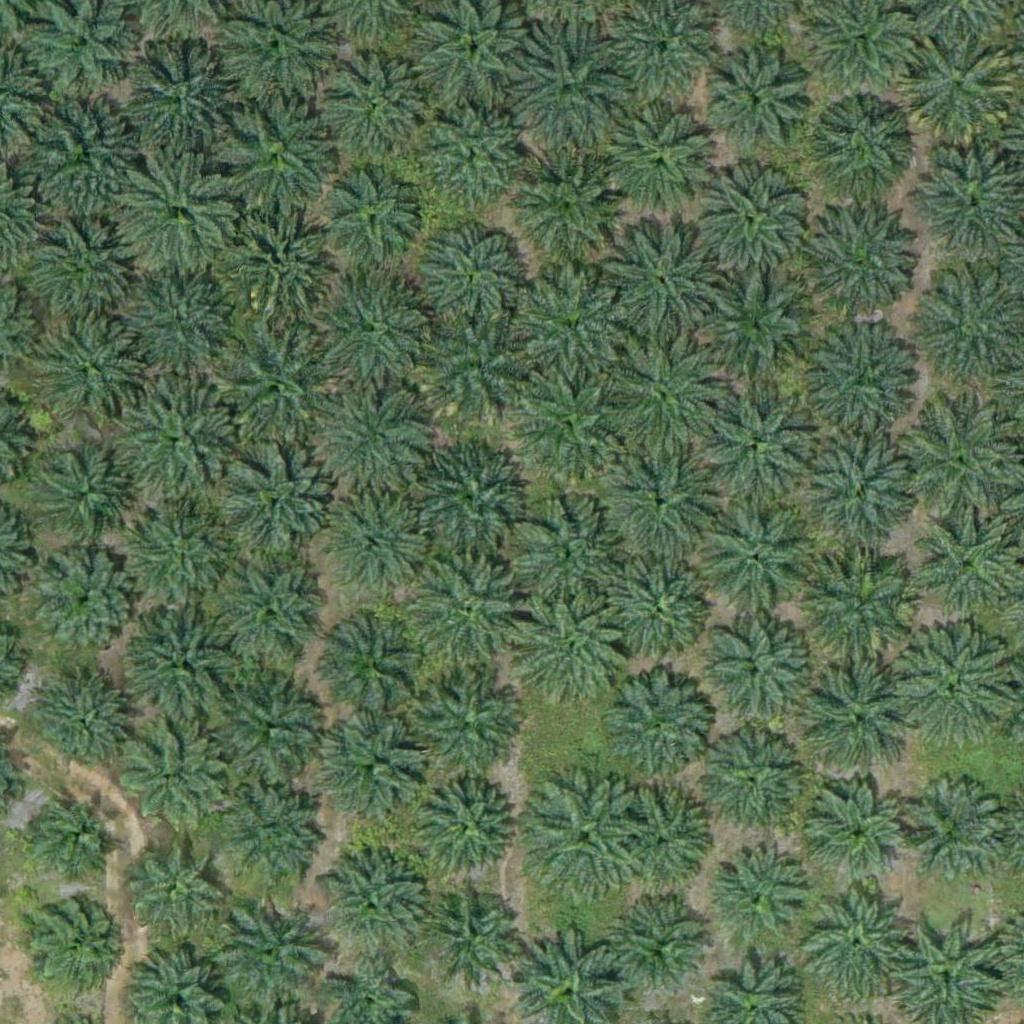Kelapa_Sawit: (502, 32, 627, 158), (120, 48, 245, 174), (117, 601, 242, 727), (114, 494, 239, 620), (114, 372, 239, 498), (116, 152, 241, 278), (224, 193, 349, 319), (214, 316, 339, 442), (215, 445, 340, 571), (208, 665, 333, 791), (310, 383, 435, 509), (311, 273, 436, 399), (408, 436, 533, 562), (404, 547, 529, 673), (512, 592, 637, 718), (505, 494, 630, 620), (597, 331, 722, 457), (599, 435, 724, 561), (595, 542, 720, 668), (591, 663, 716, 789), (693, 613, 818, 739), (693, 496, 818, 622), (800, 199, 925, 325), (803, 317, 928, 443), (799, 543, 924, 669), (798, 659, 923, 785), (896, 399, 1021, 525), (795, 879, 920, 1005), (520, 774, 645, 900), (898, 32, 1023, 157), (598, 217, 723, 342), (699, 379, 824, 504), (699, 267, 824, 392), (799, 430, 924, 555), (894, 626, 1019, 751), (327, 55, 440, 169), (117, 276, 230, 390), (213, 558, 326, 671), (419, 101, 532, 214), (512, 265, 625, 378), (414, 220, 527, 333), (421, 318, 534, 431), (318, 848, 431, 961), (215, 779, 328, 892), (212, 897, 325, 1010), (222, 103, 334, 216), (320, 608, 432, 721), (512, 144, 624, 257), (409, 674, 521, 787), (608, 106, 720, 219), (117, 724, 229, 837), (812, 90, 912, 191), (707, 50, 807, 151), (44, 322, 144, 423), (37, 551, 137, 652), (33, 676, 133, 777), (322, 170, 422, 271), (520, 371, 620, 472), (702, 173, 802, 274), (919, 517, 1019, 618), (899, 782, 999, 883), (809, 785, 909, 886), (697, 732, 797, 833), (709, 848, 809, 949), (611, 781, 711, 882), (119, 830, 219, 931), (22, 785, 122, 886), (24, 891, 124, 992), (25, 215, 125, 315), (332, 503, 432, 603), (614, 896, 714, 996), (414, 776, 514, 876), (423, 884, 523, 984), (326, 720, 426, 820), (35, 102, 134, 202), (40, 456, 128, 544)
